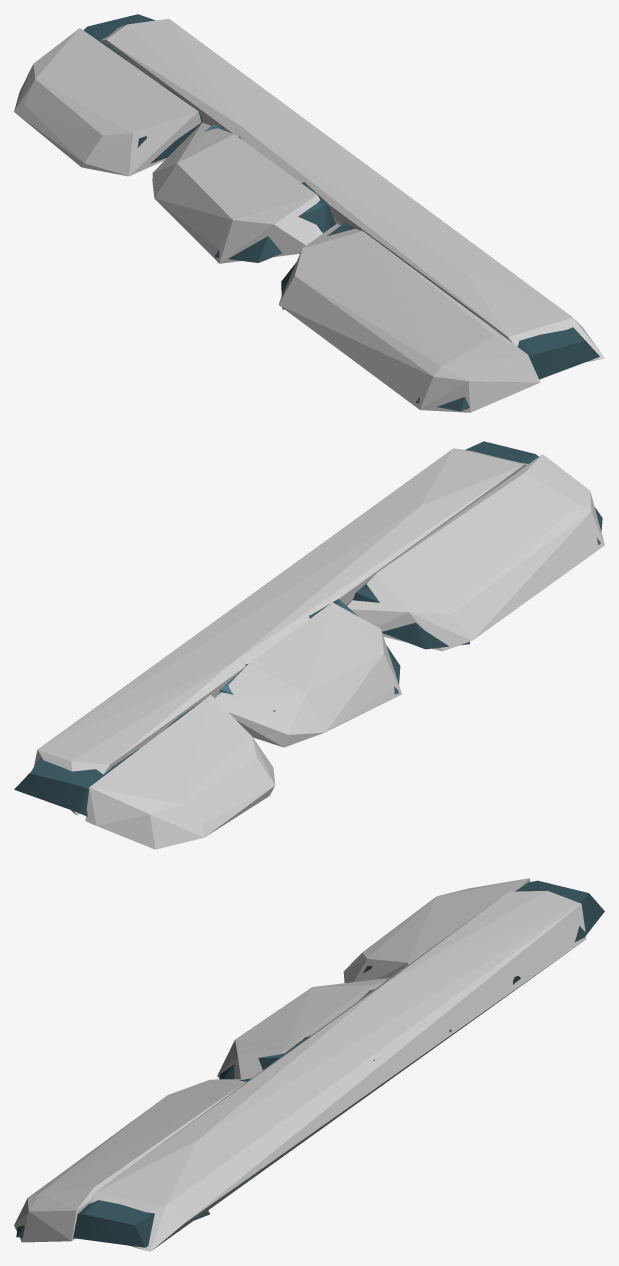
The model's file is SM_Bld_Roof_Tiles_Line_01.fbx.
3 views of the same model, one above another, from view 1: azimuth 30°, elevation 25°; view 2: azimuth 150°, elevation 25°; view 3: azimuth 330°, elevation 25° (orthographic).
Visible parts, largest first — view 1: SM_Bld_Roof_Tiles_Line_01_ConvexHulls, SM_Bld_Roof_Tiles_Line_01; view 2: SM_Bld_Roof_Tiles_Line_01_ConvexHulls, SM_Bld_Roof_Tiles_Line_01; view 3: SM_Bld_Roof_Tiles_Line_01_ConvexHulls, SM_Bld_Roof_Tiles_Line_01.
Boxes of the visible parts, x1,y1,x2,y2 form: SM_Bld_Roof_Tiles_Line_01_ConvexHulls: (14, 19, 604, 412); SM_Bld_Roof_Tiles_Line_01: (83, 14, 599, 411); SM_Bld_Roof_Tiles_Line_01_ConvexHulls: (34, 448, 604, 849); SM_Bld_Roof_Tiles_Line_01: (14, 441, 602, 816); SM_Bld_Roof_Tiles_Line_01_ConvexHulls: (14, 878, 586, 1251); SM_Bld_Roof_Tiles_Line_01: (16, 880, 604, 1247).
Bounding box in the file's own units: 53.65 × 252 × 18.69.
2 materials, 1 textured.
